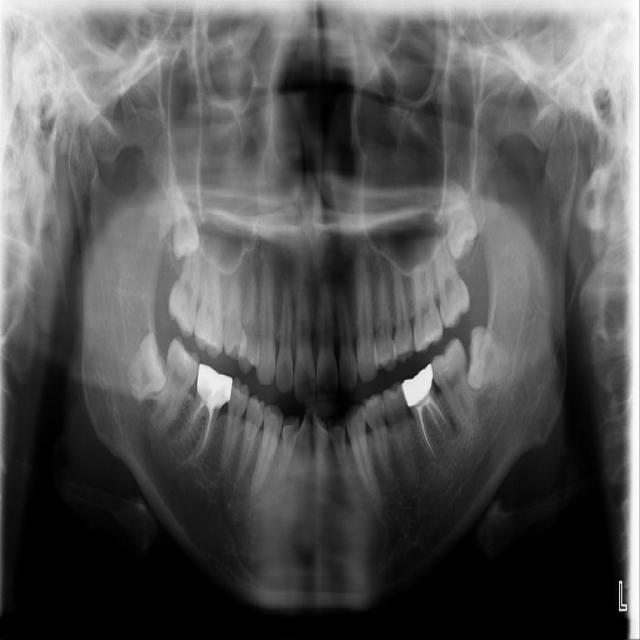3M ESPE Implant: (167, 173, 202, 260)
52: (395, 362, 446, 410), (193, 363, 235, 411)
73: (400, 377, 464, 465), (172, 390, 227, 465), (560, 570, 564, 580)
BioHorizons Implant: (426, 227, 474, 330)
BioLife Implant: (424, 176, 489, 262)
Biomet 3i Implant: (466, 325, 514, 391)
Blue Sky Bio Implant: (425, 337, 481, 441)
Caries: (164, 241, 205, 338)
Implant: (148, 334, 206, 439)
Keystone Dental Implant: (111, 330, 176, 403)
